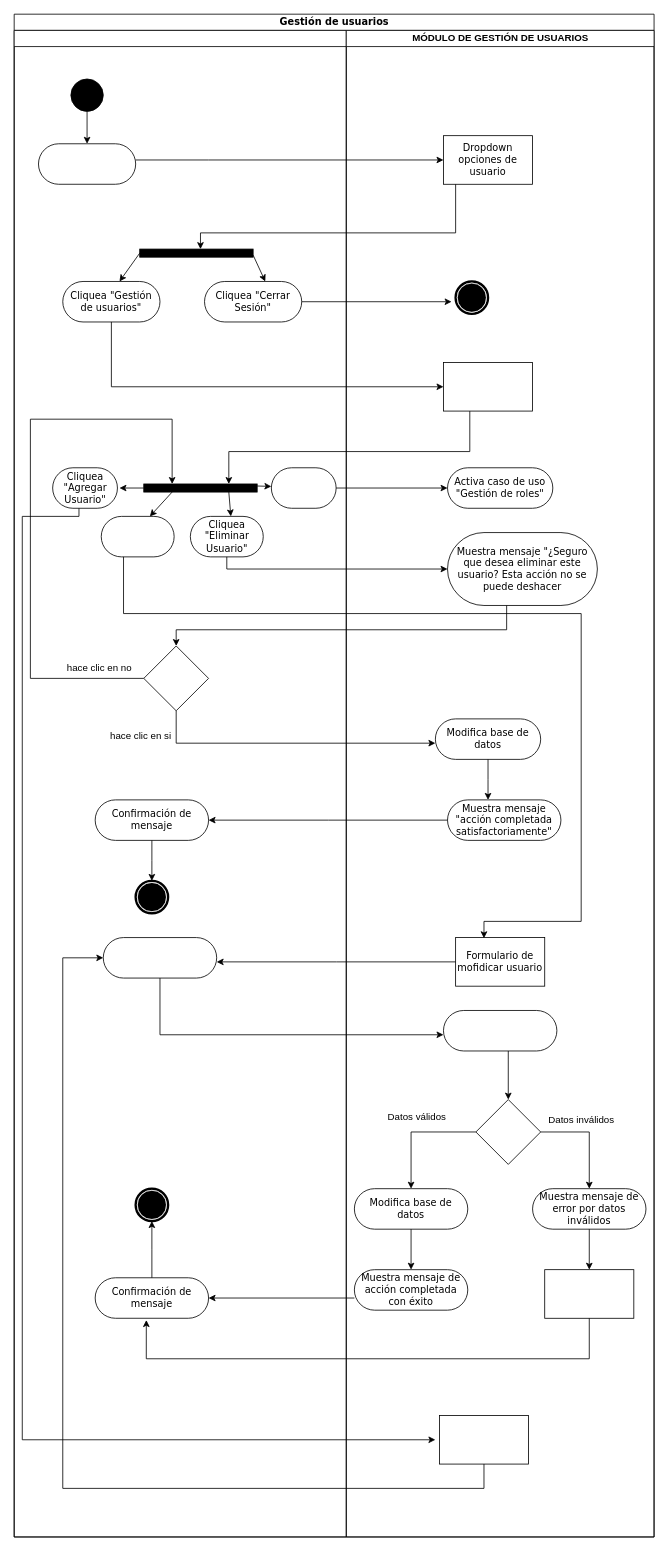
The diagram is 668 pixels wide and 1551 high, and some of its shapes have lost their labels. The box of each missing label's shape, as (x1, y1, x2, y2) in pixels:
ADMINISTRADOR: (13, 30, 346, 1537)
Cliquea "Gestión de Roles": (271, 467, 336, 508)
Cliquea "Modificar Usuario": (100, 516, 174, 557)
Cliquea nombre de usuario en navbar: (38, 143, 136, 184)
Código y tipo de error: (544, 1269, 634, 1318)
Formulario de agregar usuarios: (439, 1415, 529, 1464)
Menú gestión de usuarios: (443, 362, 533, 411)
Rellena datos: (102, 937, 217, 978)
Valida datos: (443, 1010, 557, 1051)
